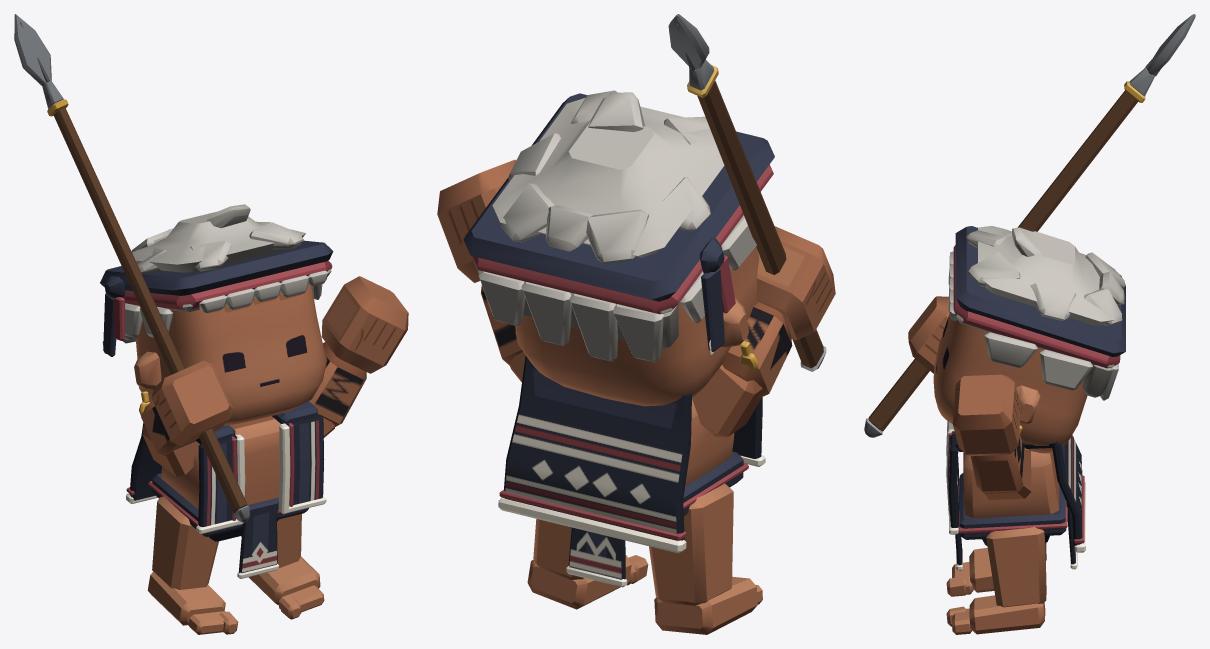
The model's file is audience_v2_elder_man_cheer.glb.
3 views of the same model, side by side, from view 1: azimuth 30°, elevation 25°; view 2: azimuth 150°, elevation 25°; view 3: azimuth 270°, elevation 25° (orthographic). The views are drawn at different scales.
Parts seen in each view (by area): view 1: audience_v2_elder_man_cheer; view 2: audience_v2_elder_man_cheer; view 3: audience_v2_elder_man_cheer.
Boxes of the visible parts, box(x1,y1,x2,y2) form: audience_v2_elder_man_cheer: box(14, 14, 408, 634); audience_v2_elder_man_cheer: box(437, 14, 835, 634); audience_v2_elder_man_cheer: box(864, 14, 1195, 634).
Bounding box in the file's own units: 0.5809 × 1.07 × 0.5978.
Materials: 1 (1 with a texture image).
